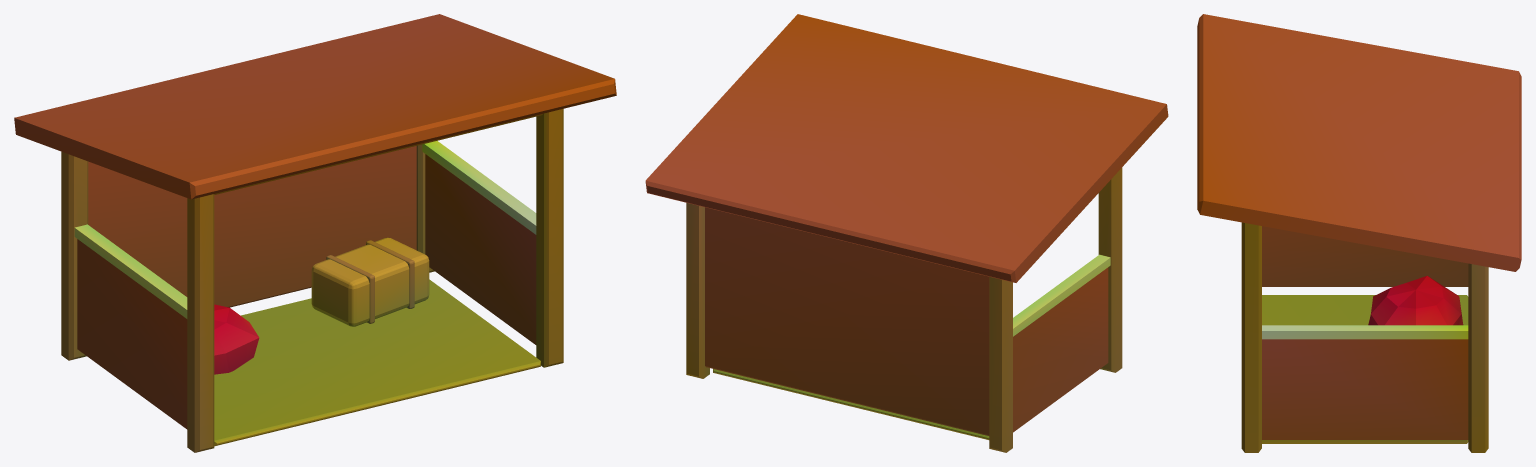
File: Farm_Shed.fbx
The picture shows the model from 3 angles, left to right: view 1: azimuth 30°, elevation 25°; view 2: azimuth 150°, elevation 25°; view 3: azimuth 270°, elevation 25°; orthographic projection. The views are drawn at different scales.
Visible parts, largest first — view 1: Farm_Shed; view 2: Farm_Shed; view 3: Farm_Shed.
Boxes of the visible parts, box(x1,y1,x2,y2) form: Farm_Shed: box(14, 14, 616, 452); Farm_Shed: box(645, 14, 1168, 452); Farm_Shed: box(1197, 14, 1521, 452).
Size of the model in its own units: 3.9 by 2.58 by 2.86.
